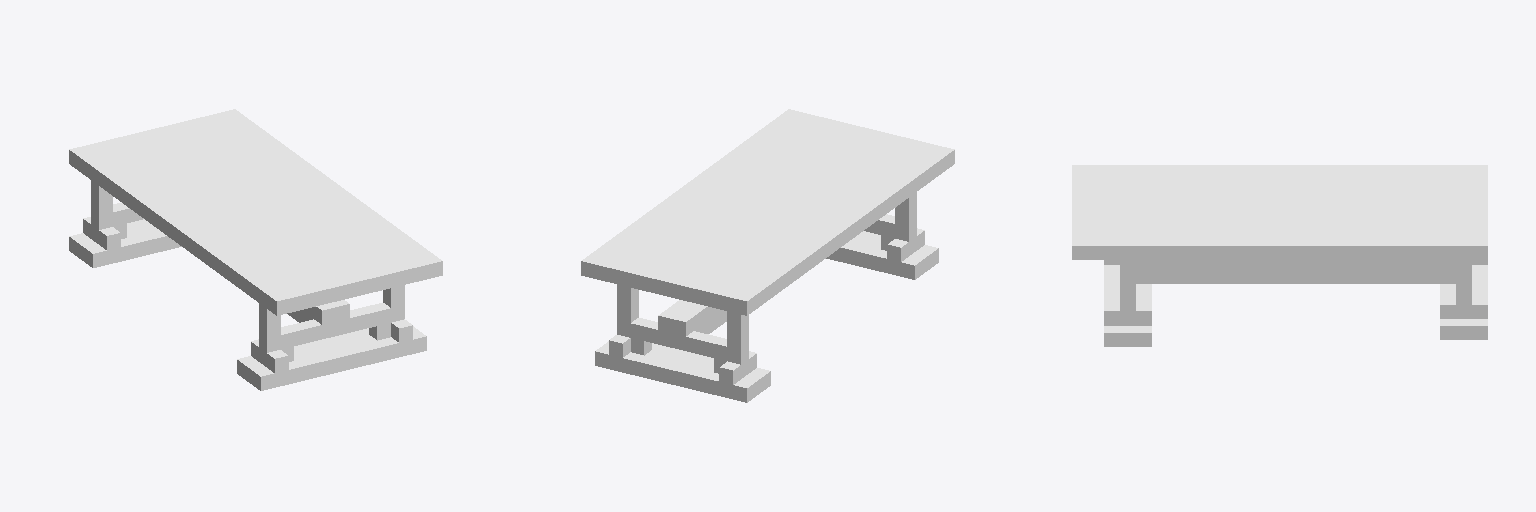
File: apt:lamp-small.obj
3 views of the same model, side by side, from view 1: azimuth 30°, elevation 25°; view 2: azimuth 150°, elevation 25°; view 3: azimuth 270°, elevation 25° (orthographic).
Parts seen in each view (by area): view 1: apt:lamp-small; view 2: apt:lamp-small; view 3: apt:lamp-small.
Part boxes in pixels (left/top/right/bottom): apt:lamp-small: left=69, top=109, right=442, bottom=390; apt:lamp-small: left=581, top=109, right=954, bottom=402; apt:lamp-small: left=1072, top=165, right=1487, bottom=346.
Bounding box in the file's own units: 12 × 7 × 26.